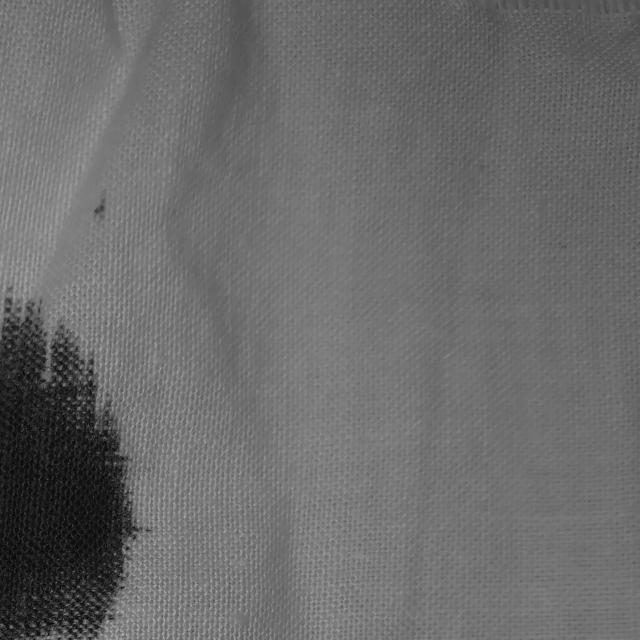Hole: (0, 185, 166, 639)
